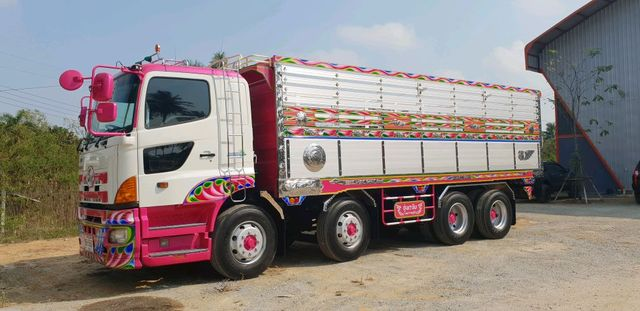truck: (73, 53, 541, 280)
